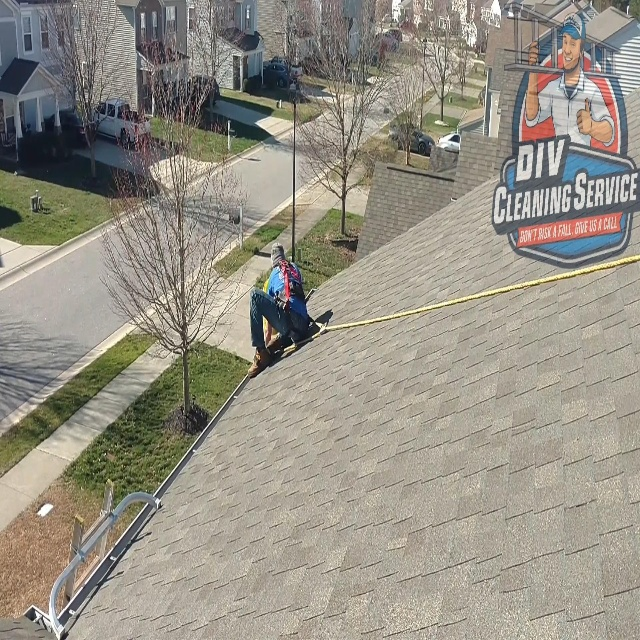Arnes_seguridad: (272, 253, 312, 351)
